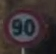limite 90: (2, 9, 43, 48)
